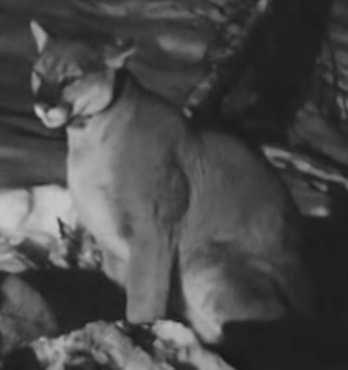Mountain Lion: (21, 13, 329, 321)
